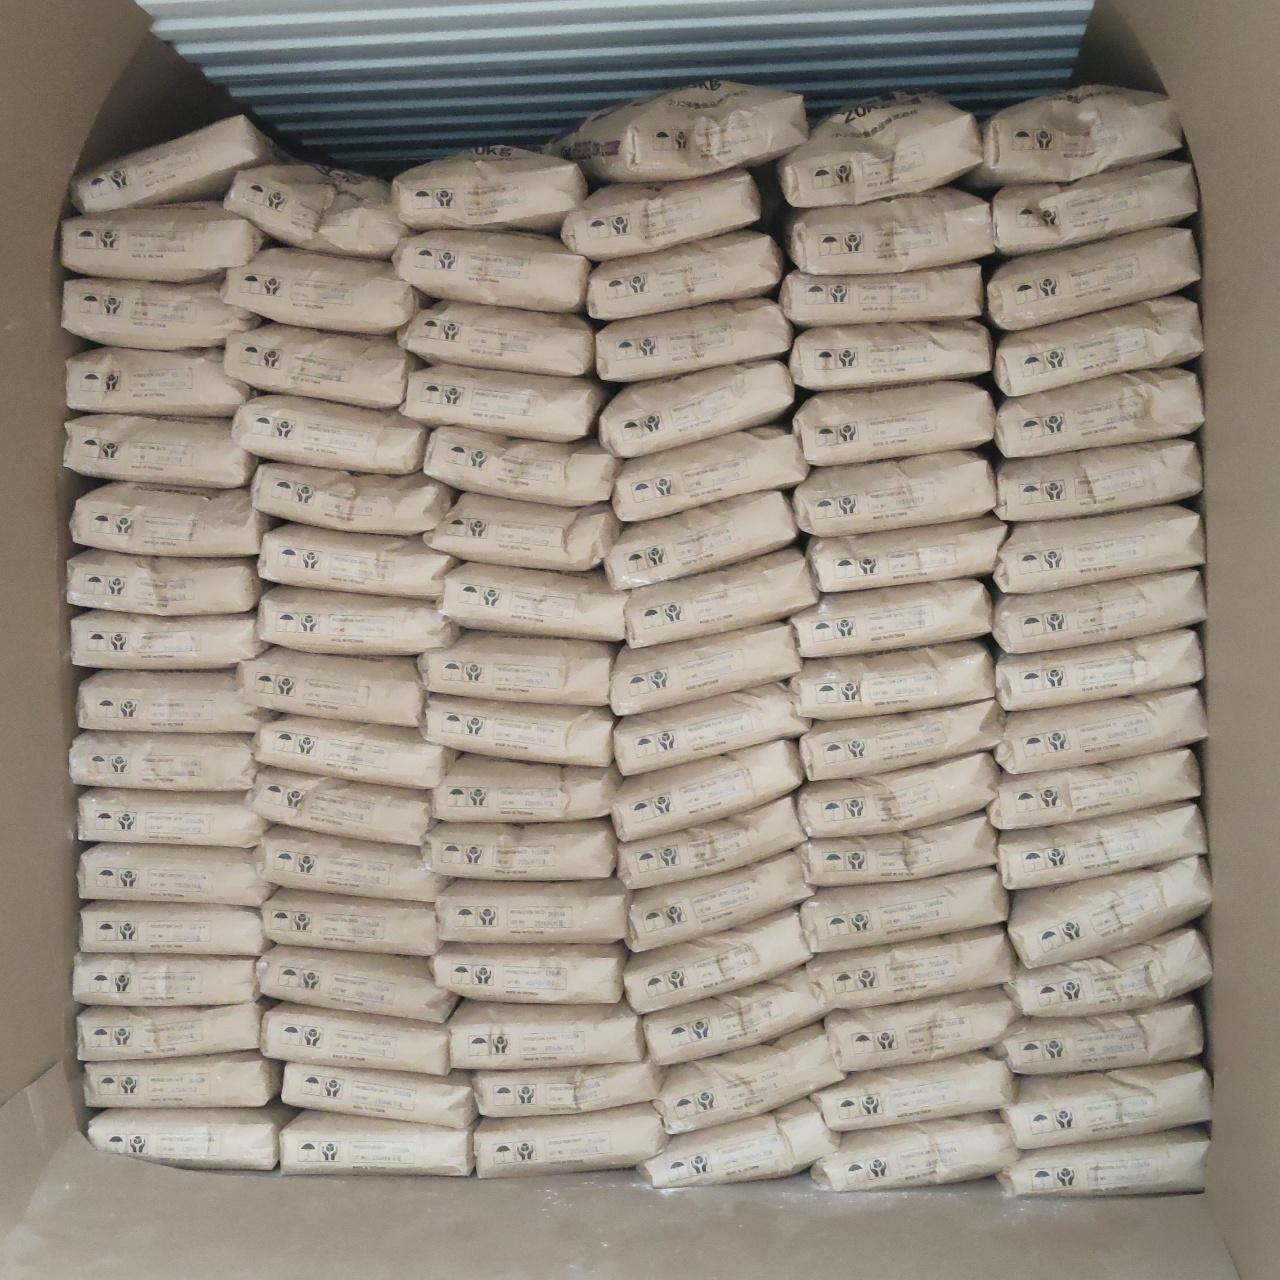sack: (550, 81, 808, 182), (1008, 856, 1211, 967), (779, 95, 981, 206), (968, 84, 1183, 188), (986, 227, 1199, 331), (72, 115, 292, 212), (654, 1023, 846, 1133), (995, 295, 1201, 396), (992, 158, 1197, 256), (625, 908, 812, 1014), (622, 549, 818, 647), (611, 740, 802, 840), (600, 361, 794, 458), (611, 425, 808, 520), (626, 851, 813, 951), (996, 368, 1203, 458), (605, 491, 796, 588), (993, 505, 1204, 593), (1000, 1060, 1208, 1148), (995, 687, 1206, 774), (617, 794, 806, 888), (787, 188, 994, 274), (639, 1097, 838, 1187), (561, 170, 760, 260), (998, 803, 1206, 888), (1005, 930, 1210, 1016), (615, 685, 810, 776), (586, 230, 783, 320), (992, 570, 1204, 653), (806, 926, 1013, 1012), (644, 968, 826, 1064), (801, 869, 1008, 953), (222, 247, 422, 334), (792, 451, 995, 537), (611, 624, 799, 715), (794, 381, 995, 467), (989, 749, 1200, 830), (224, 164, 407, 257), (996, 629, 1203, 712), (798, 753, 999, 837), (595, 298, 792, 382), (996, 440, 1201, 520), (392, 147, 587, 231), (61, 202, 265, 282), (824, 987, 1019, 1071), (392, 230, 591, 312), (993, 996, 1203, 1074), (799, 700, 1002, 779), (811, 1051, 1014, 1131), (225, 324, 416, 408), (811, 1112, 1017, 1190), (424, 425, 621, 506), (789, 579, 990, 658), (790, 641, 994, 719), (257, 946, 457, 1023), (995, 1125, 1208, 1198), (401, 365, 607, 440), (806, 517, 1007, 593), (425, 493, 620, 571), (232, 395, 423, 474), (257, 525, 458, 599), (437, 563, 629, 640), (399, 301, 594, 376), (474, 1102, 669, 1177), (236, 647, 422, 726), (62, 277, 260, 350), (69, 483, 273, 554), (799, 813, 996, 887), (788, 321, 992, 392), (418, 632, 615, 704), (252, 463, 455, 532), (64, 414, 257, 486), (256, 826, 444, 900), (254, 717, 451, 787), (247, 768, 430, 842), (448, 1001, 646, 1069), (258, 587, 458, 654), (89, 1104, 297, 1169), (261, 1003, 449, 1074), (425, 695, 613, 765), (779, 263, 983, 327), (67, 549, 261, 615), (66, 347, 248, 416), (282, 1063, 477, 1128), (433, 755, 620, 821), (280, 1111, 474, 1175), (77, 844, 270, 907), (436, 879, 628, 942), (77, 670, 273, 733), (263, 888, 438, 955), (431, 942, 625, 1002), (72, 610, 266, 668), (79, 788, 267, 847), (424, 822, 617, 879), (472, 1060, 663, 1117), (70, 731, 256, 790), (77, 1001, 266, 1058), (86, 1051, 280, 1107), (80, 901, 264, 955), (73, 954, 257, 1005)
